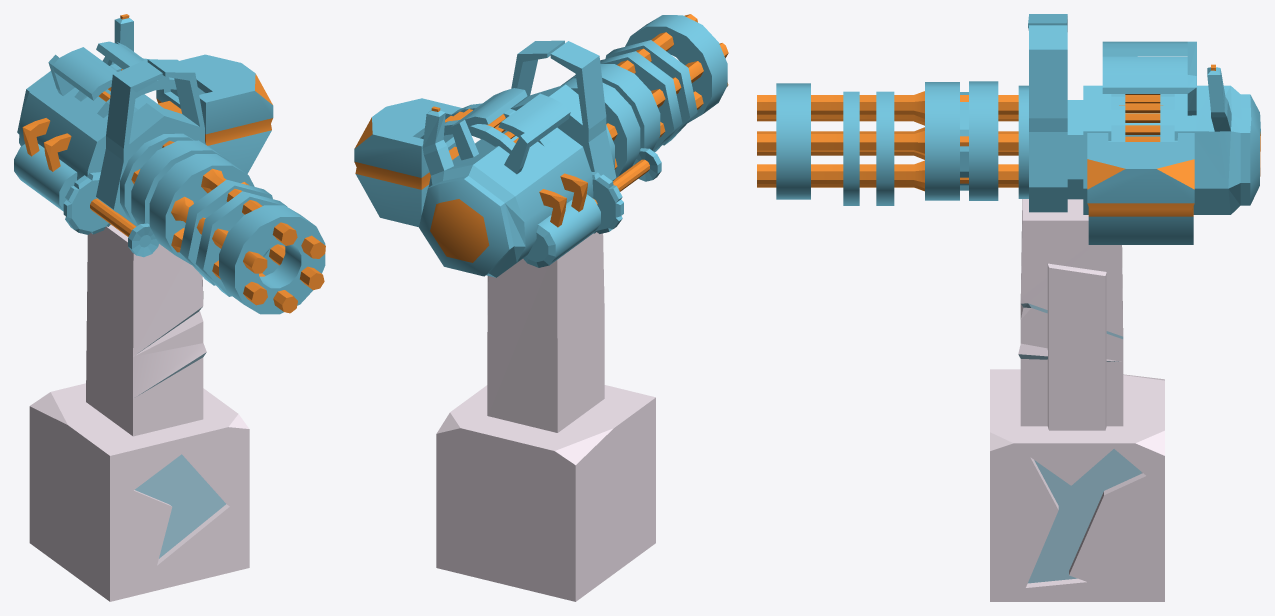
File: Gatling_Gun.FBX
The picture shows the model from 3 angles, left to right: view 1: azimuth 30°, elevation 25°; view 2: azimuth 150°, elevation 25°; view 3: azimuth 270°, elevation 25°; orthographic projection. The views are drawn at different scales.
Parts seen in each view (by area): view 1: Gatling_Gun_Tower, Gatling_Gun; view 2: Gatling_Gun_Tower, Gatling_Gun; view 3: Gatling_Gun, Gatling_Gun_Tower.
Boxes of the visible parts, left/top/right/bottom form: Gatling_Gun_Tower: left=29, top=225, right=249, bottom=601; Gatling_Gun: left=14, top=14, right=325, bottom=314; Gatling_Gun_Tower: left=436, top=232, right=655, bottom=601; Gatling_Gun: left=354, top=14, right=728, bottom=277; Gatling_Gun: left=757, top=14, right=1260, bottom=244; Gatling_Gun_Tower: left=990, top=199, right=1164, bottom=601.
Size of the model in its own units: 1.7 by 3.8 by 3.21.
